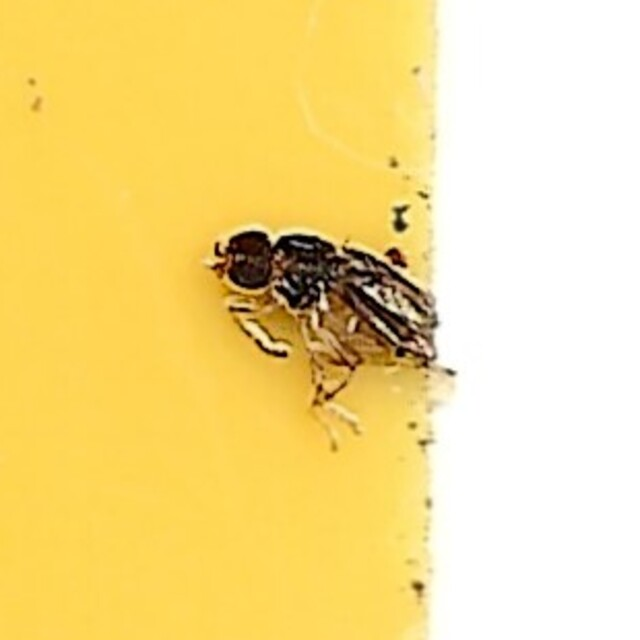Brachycera: (206, 225, 434, 415)
